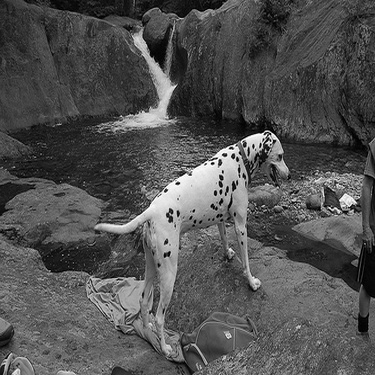dog: (78, 124, 295, 363)
